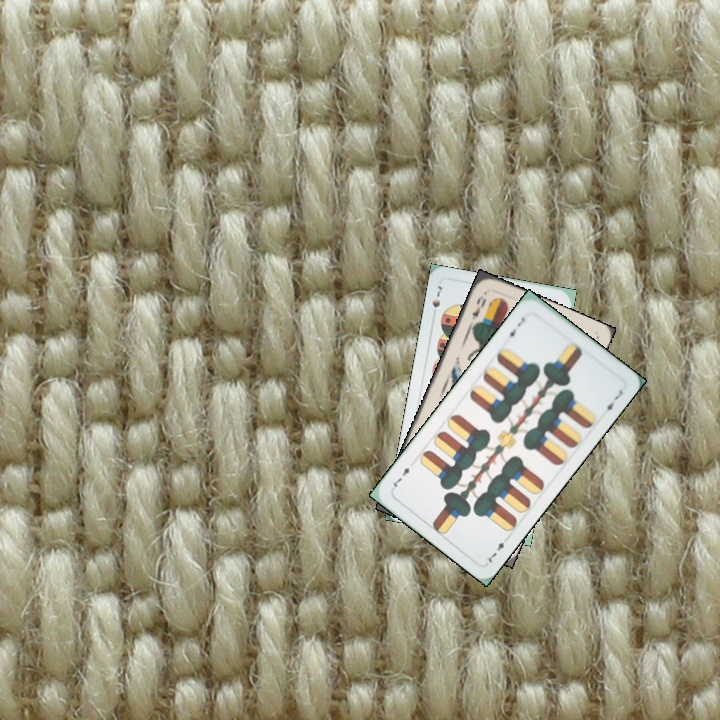E7: (482, 532, 512, 566), (502, 313, 528, 342)
EO: (468, 291, 489, 323)
S7: (428, 281, 444, 310)
